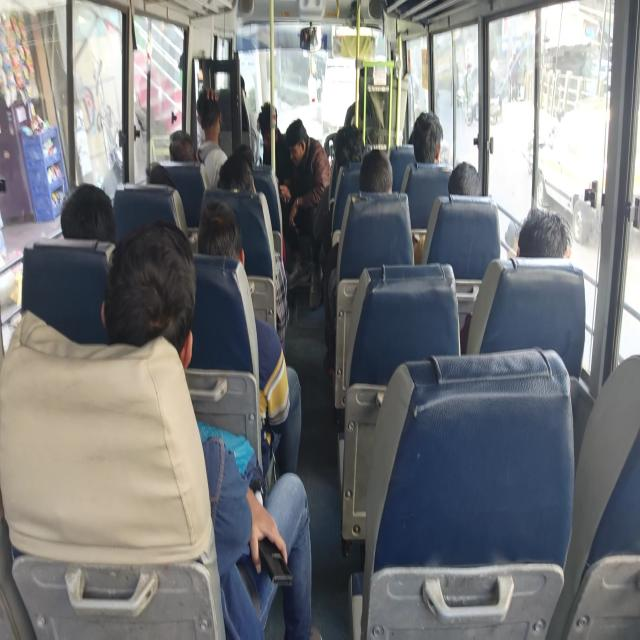person: (101, 220, 318, 638), (196, 197, 302, 478), (324, 148, 414, 375), (460, 206, 572, 353), (217, 148, 289, 351), (278, 118, 331, 308), (412, 161, 482, 264), (60, 182, 116, 243), (257, 101, 292, 195), (196, 87, 228, 189), (344, 66, 384, 144), (516, 206, 572, 259), (408, 111, 443, 164), (359, 148, 393, 194), (448, 161, 482, 197), (168, 130, 196, 162)
